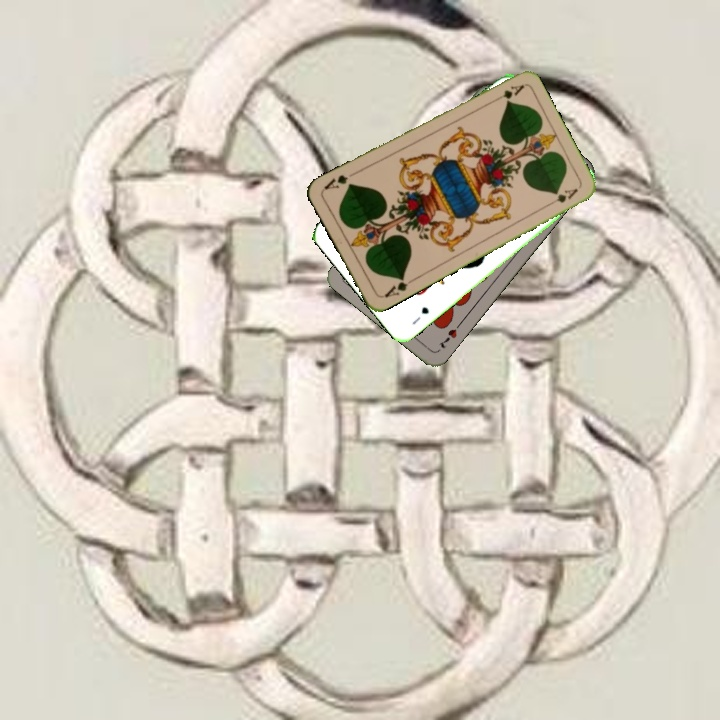GA: (379, 272, 416, 300), (488, 81, 526, 105)
GU: (408, 303, 432, 327)
H7: (435, 319, 464, 351)
